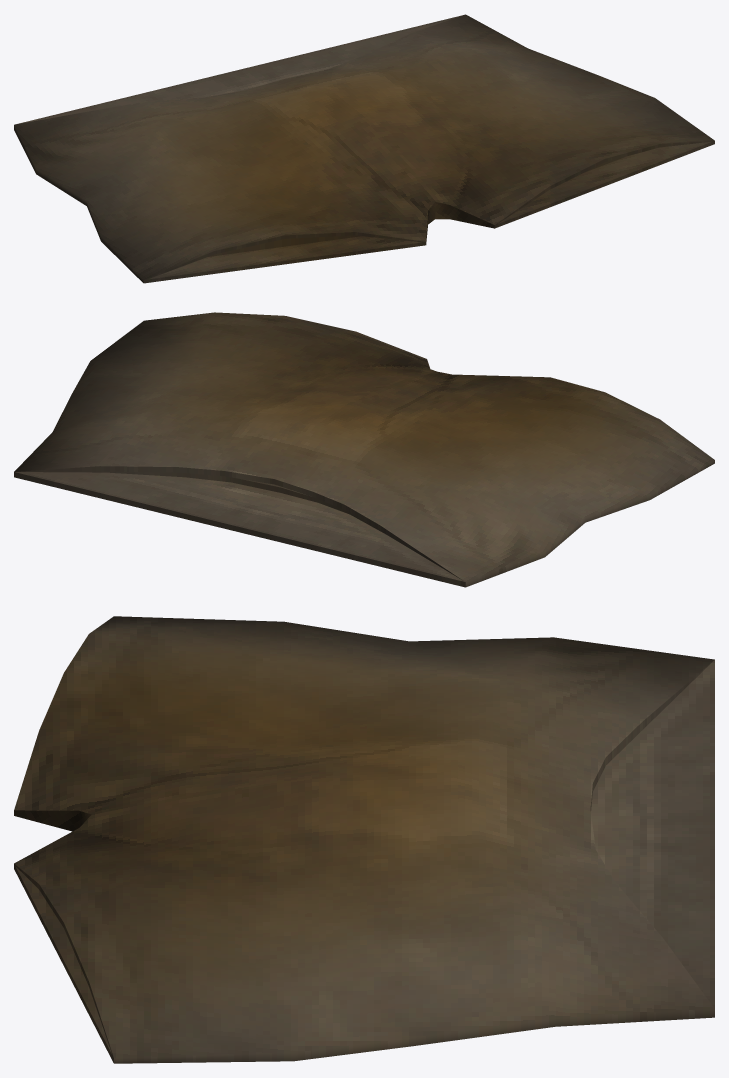
The model's file is underwear_mp_1.glb.
3 renders of one model, top to bottom at view 1: azimuth 30°, elevation 25°; view 2: azimuth 150°, elevation 25°; view 3: azimuth 270°, elevation 25°, orthographic. The views are drawn at different scales.
Parts seen in each view (by area): view 1: underwear_mp_1; view 2: underwear_mp_1; view 3: underwear_mp_1.
Boxes of the visible parts, x1,y1,x2,y2 form: underwear_mp_1: [14, 14, 714, 283]; underwear_mp_1: [14, 312, 714, 587]; underwear_mp_1: [14, 616, 714, 1063].
Bounding box in the file's own units: 0.4427 × 0.0332 × 0.2967.
Materials: 1 (1 with a texture image).
